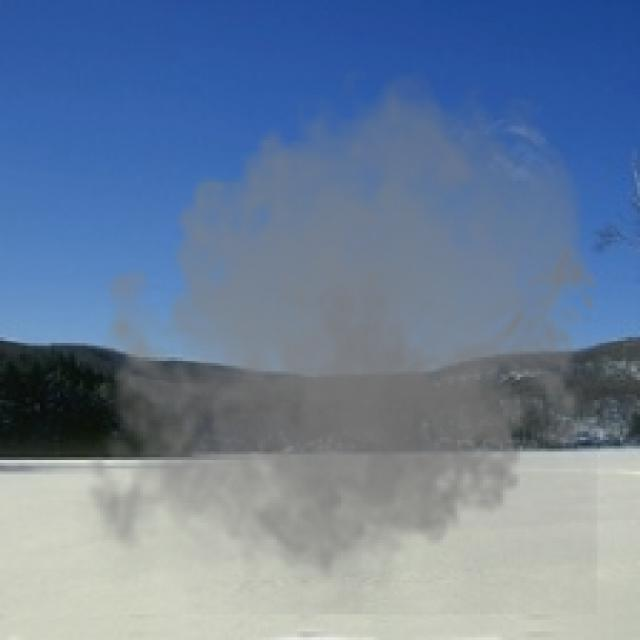smoke: (71, 51, 608, 614)
